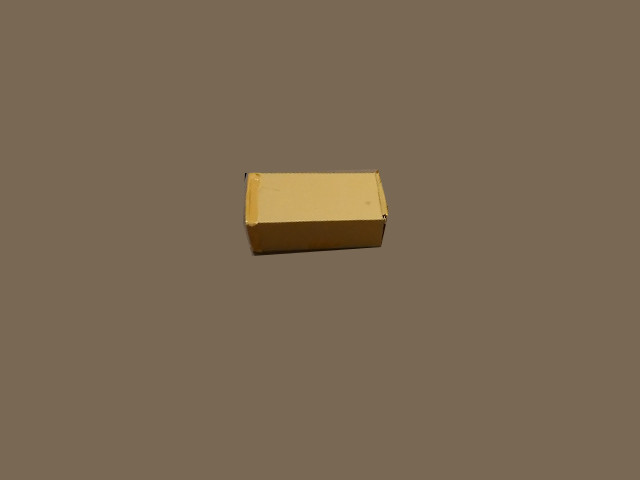cardboard: (245, 172, 387, 250)
